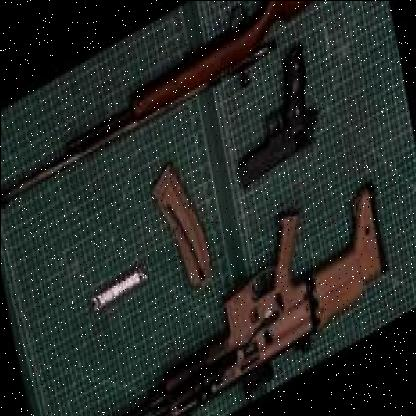rifle: (0, 0, 382, 228), (57, 161, 396, 416)
